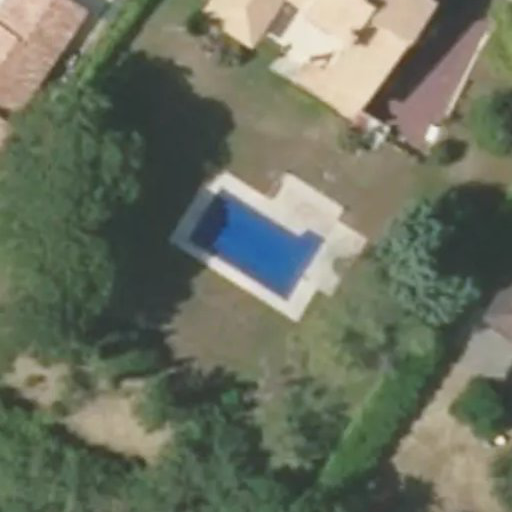pool: (203, 236, 308, 247)
